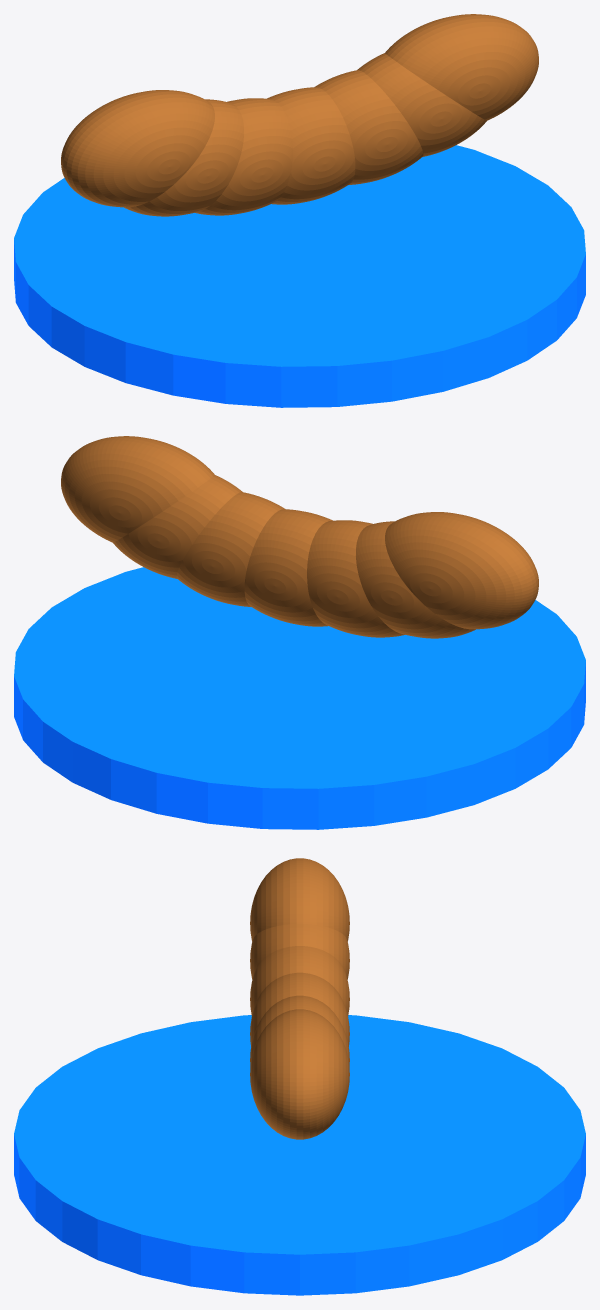
Rendered from french_croissant.dae.
The picture shows the model from 3 angles, top to bottom: view 1: azimuth 30°, elevation 25°; view 2: azimuth 150°, elevation 25°; view 3: azimuth 270°, elevation 25°; orthographic projection.
Visible parts, largest first — view 1: 10_03_Popular_French_Croissant_ROOT_base, 10_03_Popular_French_Croissant_part_01, 10_03_Popular_French_Croissant_part_07, 10_03_Popular_French_Croissant_part_04, 10_03_Popular_French_Croissant_part_05, 10_03_Popular_French_Croissant_part_03, 10_03_Popular_French_Croissant_part_06, 10_03_Popular_French_Croissant_part_02; view 2: 10_03_Popular_French_Croissant_ROOT_base, 10_03_Popular_French_Croissant_part_01, 10_03_Popular_French_Croissant_part_07, 10_03_Popular_French_Croissant_part_04, 10_03_Popular_French_Croissant_part_05, 10_03_Popular_French_Croissant_part_03, 10_03_Popular_French_Croissant_part_06, 10_03_Popular_French_Croissant_part_02; view 3: 10_03_Popular_French_Croissant_ROOT_base, 10_03_Popular_French_Croissant_part_07, 10_03_Popular_French_Croissant_part_01, 10_03_Popular_French_Croissant_part_03, 10_03_Popular_French_Croissant_part_02, 10_03_Popular_French_Croissant_part_04, 10_03_Popular_French_Croissant_part_05.
Part boxes in pixels (bbox=[...]): 10_03_Popular_French_Croissant_ROOT_base: bbox=[14, 145, 585, 407]; 10_03_Popular_French_Croissant_part_01: bbox=[61, 90, 214, 207]; 10_03_Popular_French_Croissant_part_07: bbox=[385, 14, 538, 120]; 10_03_Popular_French_Croissant_part_04: bbox=[267, 87, 355, 204]; 10_03_Popular_French_Croissant_part_05: bbox=[314, 70, 423, 184]; 10_03_Popular_French_Croissant_part_03: bbox=[195, 98, 292, 215]; 10_03_Popular_French_Croissant_part_06: bbox=[357, 53, 486, 156]; 10_03_Popular_French_Croissant_part_02: bbox=[124, 99, 243, 216]; 10_03_Popular_French_Croissant_ROOT_base: bbox=[14, 567, 585, 829]; 10_03_Popular_French_Croissant_part_01: bbox=[385, 512, 538, 629]; 10_03_Popular_French_Croissant_part_07: bbox=[61, 436, 214, 542]; 10_03_Popular_French_Croissant_part_04: bbox=[244, 509, 332, 626]; 10_03_Popular_French_Croissant_part_05: bbox=[176, 492, 285, 606]; 10_03_Popular_French_Croissant_part_03: bbox=[307, 520, 404, 637]; 10_03_Popular_French_Croissant_part_06: bbox=[113, 475, 242, 578]; 10_03_Popular_French_Croissant_part_02: bbox=[356, 521, 475, 638]; 10_03_Popular_French_Croissant_ROOT_base: bbox=[14, 1015, 585, 1295]; 10_03_Popular_French_Croissant_part_07: bbox=[250, 1009, 349, 1139]; 10_03_Popular_French_Croissant_part_01: bbox=[250, 858, 349, 941]; 10_03_Popular_French_Croissant_part_03: bbox=[250, 946, 349, 1015]; 10_03_Popular_French_Croissant_part_02: bbox=[250, 924, 349, 979]; 10_03_Popular_French_Croissant_part_04: bbox=[250, 972, 349, 1046]; 10_03_Popular_French_Croissant_part_05: bbox=[250, 995, 349, 1065].
Size of the model in its own units: 0.76 by 0.3342 by 0.76.
